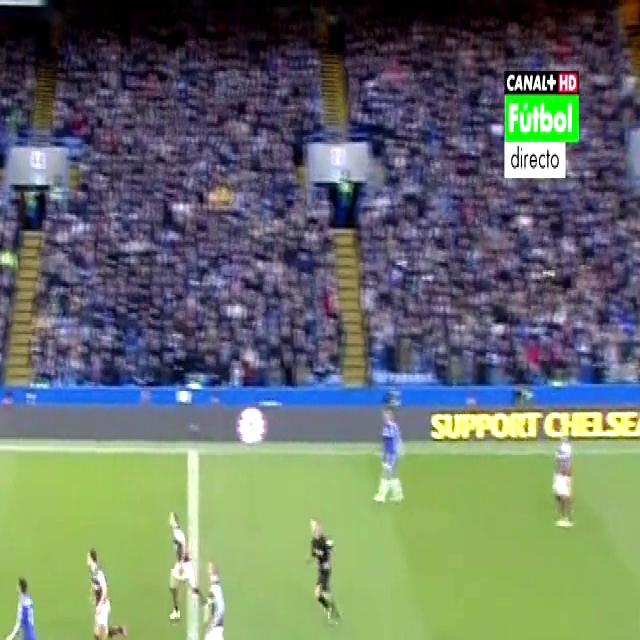referee: (304, 508, 348, 632)
soccer-player: (75, 530, 127, 640), (162, 500, 205, 629), (367, 393, 407, 514), (542, 419, 581, 542), (3, 565, 63, 640), (198, 560, 239, 640)
